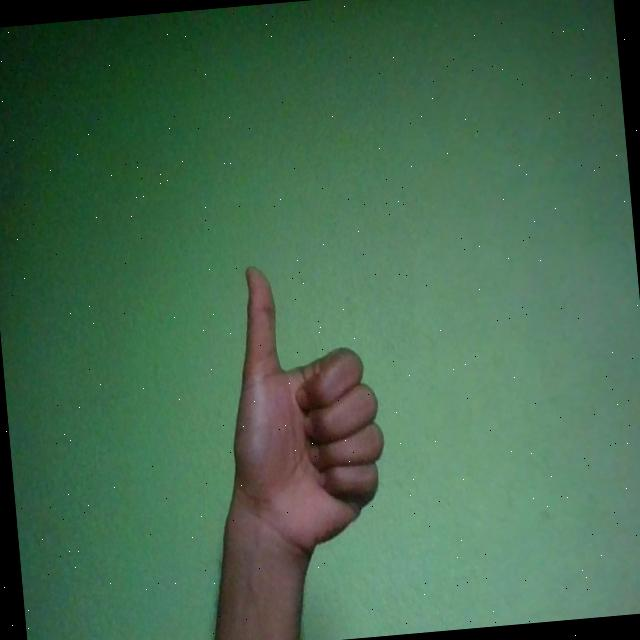Good Job: (215, 254, 395, 564)
